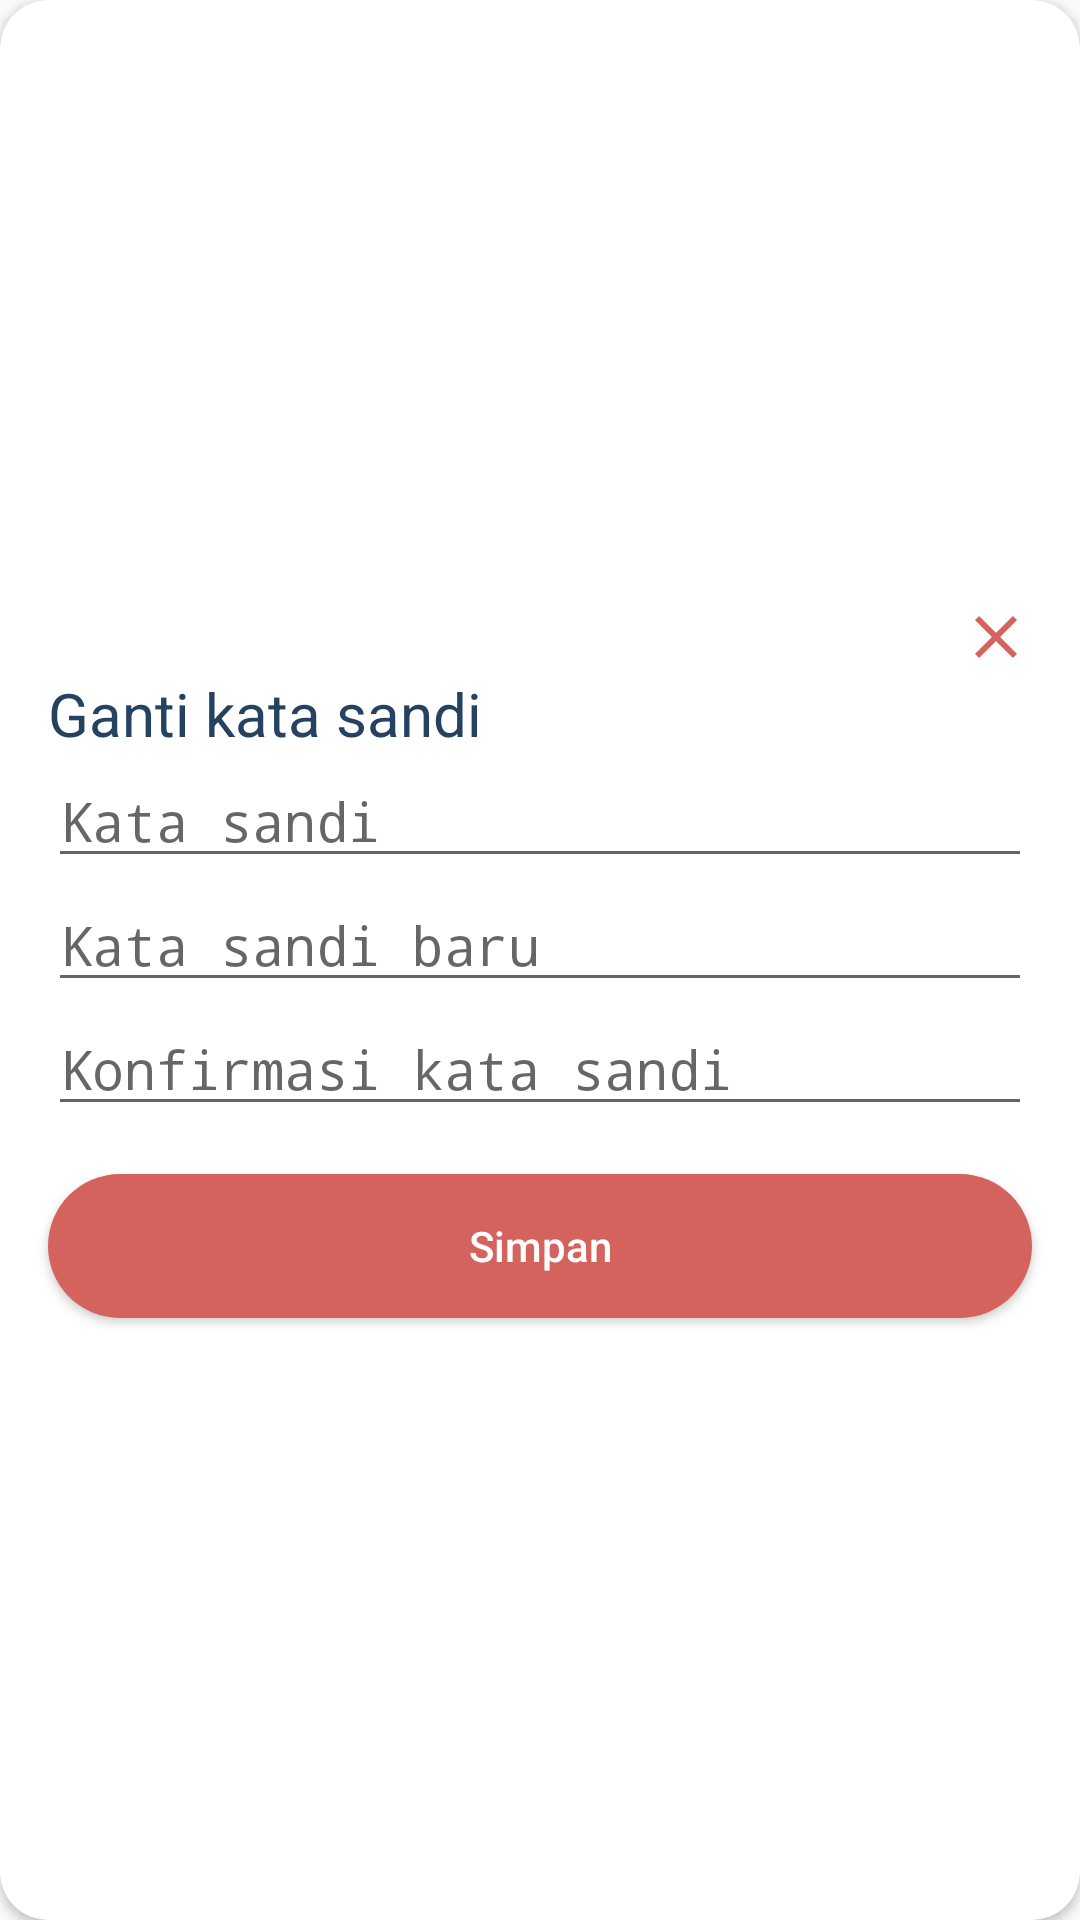

Icon bounding boxes for this 1080 × 1920 phone screenshot, format box=[x1, y1, x2, y2]:
close: box=[975, 616, 1017, 658]
